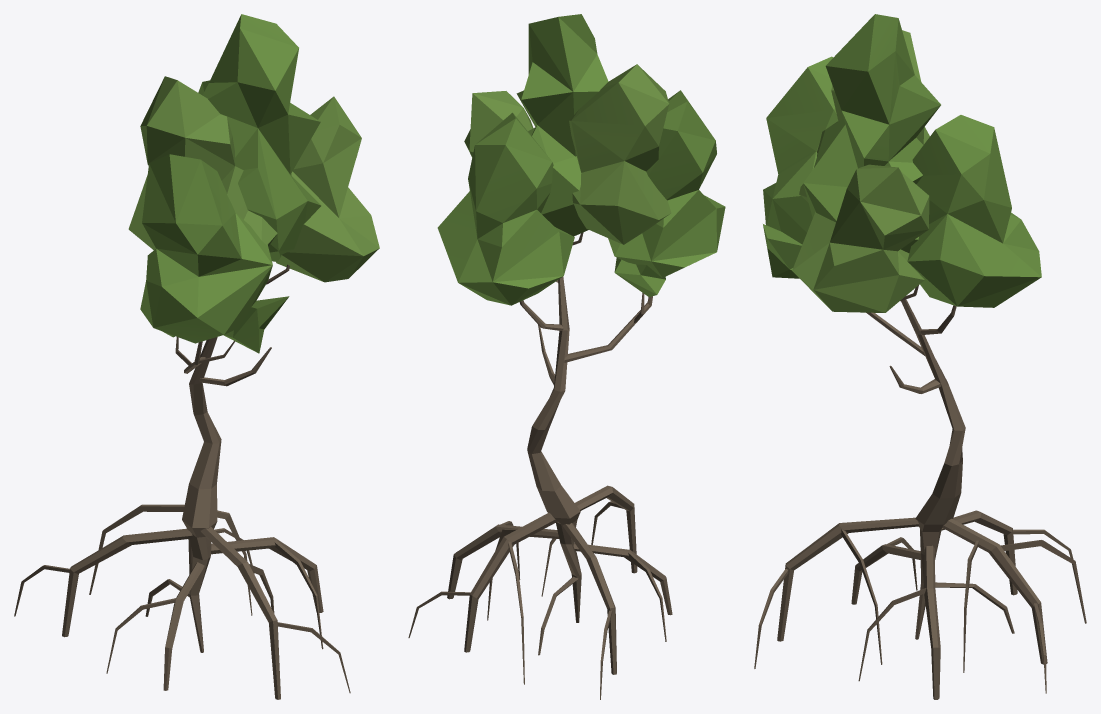
File: runtime-mangrove-lowpoly.glb
3 views of the same model, side by side, from view 1: azimuth 30°, elevation 25°; view 2: azimuth 150°, elevation 25°; view 3: azimuth 270°, elevation 25° (orthographic). The views are drawn at different scales.
Visible parts, largest first — view 1: SM_Env_Mangrove_Tree_02_SM_Env_Mangrove_Tree_02_PolygonPirat; view 2: SM_Env_Mangrove_Tree_02_SM_Env_Mangrove_Tree_02_PolygonPirat; view 3: SM_Env_Mangrove_Tree_02_SM_Env_Mangrove_Tree_02_PolygonPirat.
Boxes of the visible parts, x1,y1,x2,y2 form: SM_Env_Mangrove_Tree_02_SM_Env_Mangrove_Tree_02_PolygonPirat: (14, 14, 379, 699); SM_Env_Mangrove_Tree_02_SM_Env_Mangrove_Tree_02_PolygonPirat: (408, 14, 725, 699); SM_Env_Mangrove_Tree_02_SM_Env_Mangrove_Tree_02_PolygonPirat: (754, 14, 1086, 699).
Size of the model in its own units: 1.73 by 4.3 by 2.04.
Materials: 1 (1 with a texture image).
